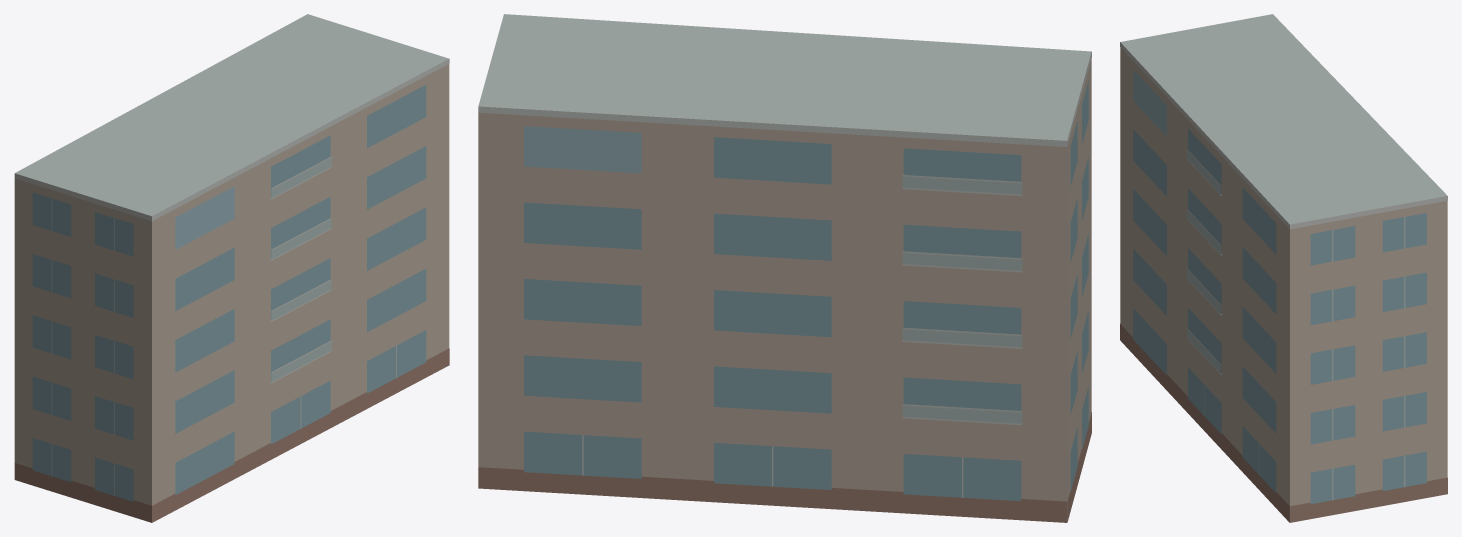
File: survey-upis-32912911.glb
3 views of the same model, side by side, from view 1: azimuth 30°, elevation 25°; view 2: azimuth 150°, elevation 25°; view 3: azimuth 270°, elevation 25° (orthographic). The views are drawn at different scales.
Visible parts, largest first — view 1: survey-upis-32912911.tmp; view 2: survey-upis-32912911.tmp; view 3: survey-upis-32912911.tmp.
Part boxes in pixels (bbox=[...]): survey-upis-32912911.tmp: bbox=[14, 14, 449, 522]; survey-upis-32912911.tmp: bbox=[478, 14, 1091, 522]; survey-upis-32912911.tmp: bbox=[1120, 14, 1447, 522].
Size of the model in its own units: 22.72 by 15 by 14.94.
